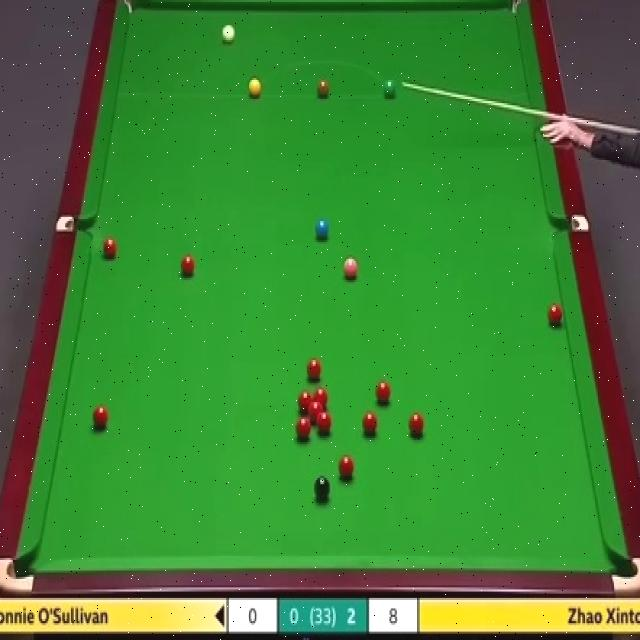black-ball: (314, 473, 332, 502)
blue-ball: (314, 218, 330, 242)
brown-ball: (316, 78, 329, 99)
green-ball: (382, 77, 396, 99)
pink-ball: (340, 257, 361, 286)
red-ball: (547, 302, 565, 332), (337, 452, 356, 480), (374, 379, 392, 405), (179, 255, 197, 279), (361, 412, 378, 437), (408, 413, 425, 438), (103, 237, 119, 263), (91, 405, 108, 429), (316, 412, 331, 436), (307, 358, 322, 382), (297, 393, 313, 415), (312, 387, 329, 407), (296, 418, 310, 440), (308, 402, 322, 421)
white-ball: (220, 20, 239, 45)
yellow-ball: (248, 78, 262, 99)
